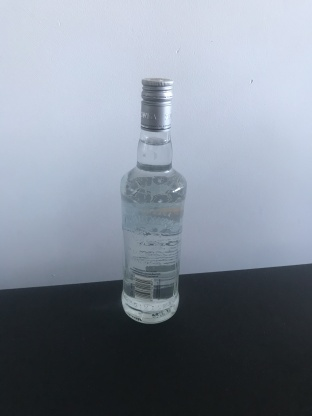nakretka: (139, 76, 173, 132)
